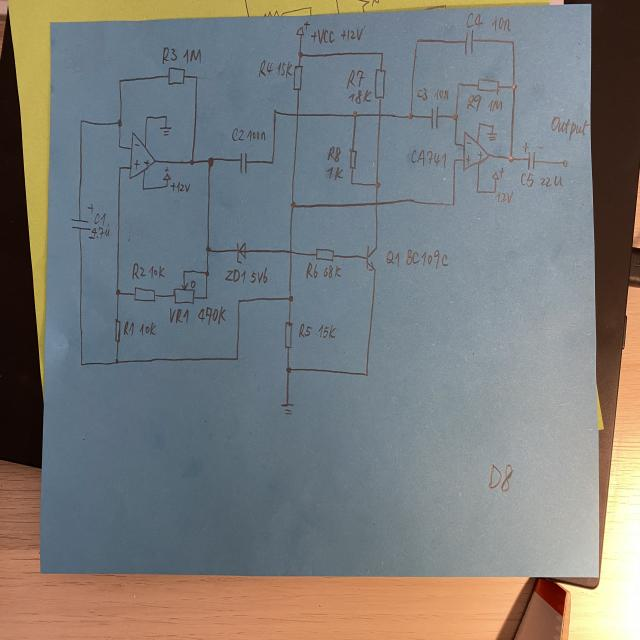capacitor: (70, 203, 96, 241), (522, 142, 543, 170), (238, 151, 250, 178), (464, 29, 475, 56), (429, 105, 440, 132)
crossover: (377, 111, 383, 120), (374, 199, 380, 208), (288, 248, 294, 256), (295, 111, 300, 118)
diode: (235, 241, 248, 265)
ground: (279, 400, 295, 418), (159, 124, 173, 137), (485, 131, 497, 142)
junction: (289, 200, 297, 210), (287, 293, 294, 303), (207, 157, 214, 167), (116, 118, 123, 128), (285, 365, 292, 374), (189, 158, 196, 166), (374, 181, 381, 189), (115, 288, 121, 297), (452, 113, 458, 122), (508, 155, 514, 164), (511, 82, 517, 91), (297, 51, 304, 58), (205, 246, 211, 254), (408, 112, 414, 120), (352, 111, 358, 119), (114, 358, 120, 366), (116, 142, 122, 150), (452, 139, 458, 147), (204, 270, 210, 277), (117, 165, 123, 172), (272, 108, 278, 115), (236, 297, 242, 304), (140, 185, 146, 192), (452, 157, 458, 164), (364, 370, 369, 378), (162, 113, 167, 121), (78, 118, 84, 124), (144, 114, 150, 120), (270, 159, 275, 166), (235, 355, 240, 362), (451, 201, 456, 208), (456, 81, 461, 88), (203, 293, 208, 300), (379, 50, 384, 56), (510, 39, 515, 45), (475, 189, 480, 195), (415, 38, 420, 44), (349, 180, 354, 186), (194, 74, 198, 81), (478, 120, 482, 127), (492, 188, 497, 193), (118, 78, 122, 84), (80, 361, 84, 367), (182, 269, 186, 275), (164, 182, 168, 186), (491, 124, 495, 128)
resistor: (172, 280, 197, 306), (474, 75, 502, 95), (372, 67, 388, 101), (165, 65, 187, 88), (133, 286, 156, 304), (282, 320, 294, 351), (292, 64, 304, 95), (315, 248, 335, 262), (348, 145, 358, 172), (112, 317, 122, 344)
source: (295, 25, 305, 38), (162, 172, 172, 182), (491, 170, 499, 181)
terminal: (561, 159, 568, 168)
text: (549, 112, 591, 146), (405, 247, 450, 271), (409, 146, 450, 168), (196, 304, 226, 325), (490, 14, 515, 34), (343, 68, 365, 90), (540, 174, 566, 192), (168, 306, 192, 325), (311, 27, 335, 46), (249, 266, 270, 286), (224, 267, 247, 285), (347, 89, 372, 105), (182, 46, 203, 65), (170, 180, 193, 197), (160, 44, 178, 65), (493, 188, 515, 205), (130, 261, 148, 281), (340, 27, 364, 42), (385, 249, 401, 271), (520, 170, 538, 189), (246, 126, 267, 142), (258, 59, 274, 80), (466, 11, 484, 28), (466, 93, 482, 112), (276, 60, 292, 79), (326, 144, 342, 163), (317, 323, 336, 339), (138, 322, 158, 337), (326, 165, 344, 181), (322, 264, 342, 278), (486, 98, 504, 113), (149, 264, 165, 280), (123, 318, 135, 338), (230, 126, 245, 142), (92, 226, 110, 239), (298, 322, 312, 338), (433, 88, 450, 101), (93, 211, 107, 225), (306, 262, 317, 278), (416, 88, 427, 100), (303, 19, 311, 31), (133, 158, 140, 170), (499, 167, 504, 180), (466, 154, 470, 166), (144, 158, 150, 166), (478, 151, 483, 160), (465, 140, 472, 146), (134, 142, 140, 148), (164, 165, 169, 172)
transistor: (362, 245, 381, 274)
